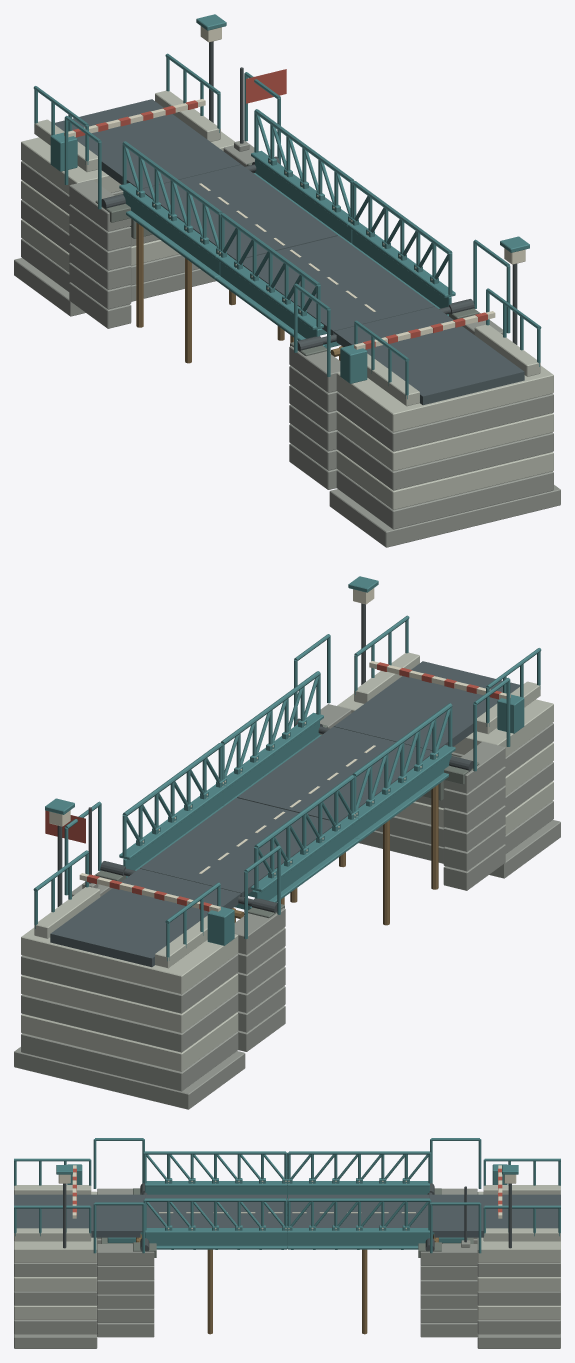
The model's file is steel-bridge.glb.
3 views of the same model, one above another, from view 1: azimuth 30°, elevation 25°; view 2: azimuth 150°, elevation 25°; view 3: azimuth 270°, elevation 25° (orthographic). The views are drawn at different scales.
Parts seen in each view (by area): view 1: BasculeLeaf.001_mesh, BasculeLeaf_mesh, FixedApproach_mesh, FixedApproach.001_mesh, AbutmentCourse.005_mesh, AbutmentCourse_mesh, AbutmentCourse.001_mesh, AbutmentCourse.002_mesh, AbutmentCourse.004_mesh, AbutmentCourse.003_mesh, Foundation_mesh, BridgeLamps_mesh (+7 smaller); view 2: BasculeLeaf_mesh, BasculeLeaf.001_mesh, FixedApproach.001_mesh, FixedApproach_mesh, AbutmentCourse.005_mesh, AbutmentCourse_mesh, AbutmentCourse.001_mesh, AbutmentCourse.002_mesh, AbutmentCourse.004_mesh, AbutmentCourse.003_mesh, Foundation_mesh, BridgeLamps_mesh (+7 smaller); view 3: BasculeLeaf_mesh, BasculeLeaf.001_mesh, FixedApproach_mesh, FixedApproach.001_mesh, AbutmentCourse.005_mesh, AbutmentCourse.002_mesh, AbutmentCourse.003_mesh, AbutmentCourse.001_mesh, AbutmentCourse_mesh, AbutmentCourse.004_mesh, Foundation_mesh, TemporaryCentering_mesh (+3 smaller).
Boxes of the visible parts, box(x1,y1,x2,y2) form: BasculeLeaf.001_mesh: box(114, 109, 354, 279); BasculeLeaf_mesh: box(215, 181, 455, 348); FixedApproach_mesh: box(294, 239, 541, 406); FixedApproach.001_mesh: box(33, 53, 280, 209); AbutmentCourse.005_mesh: box(21, 131, 553, 432); AbutmentCourse_mesh: box(21, 238, 553, 529); AbutmentCourse.001_mesh: box(21, 219, 553, 509); AbutmentCourse.002_mesh: box(21, 199, 553, 490); AbutmentCourse.004_mesh: box(21, 161, 553, 451); AbutmentCourse.003_mesh: box(21, 180, 553, 470); Foundation_mesh: box(14, 258, 560, 547); BridgeLamps_mesh: box(196, 14, 529, 344); BasculeLeaf_mesh: box(220, 671, 460, 841); BasculeLeaf.001_mesh: box(119, 743, 359, 910); FixedApproach.001_mesh: box(33, 801, 280, 968); FixedApproach_mesh: box(294, 615, 541, 771); AbutmentCourse.005_mesh: box(21, 693, 553, 994); AbutmentCourse_mesh: box(21, 800, 553, 1091); AbutmentCourse.001_mesh: box(21, 781, 553, 1071); AbutmentCourse.002_mesh: box(21, 761, 553, 1052); AbutmentCourse.004_mesh: box(21, 723, 553, 1013); AbutmentCourse.003_mesh: box(21, 742, 553, 1032); Foundation_mesh: box(14, 820, 560, 1109); BridgeLamps_mesh: box(45, 576, 378, 906); BasculeLeaf_mesh: box(101, 1151, 288, 1249); BasculeLeaf.001_mesh: box(286, 1151, 473, 1249); FixedApproach_mesh: box(14, 1138, 144, 1253); FixedApproach.001_mesh: box(430, 1138, 560, 1253); AbutmentCourse.005_mesh: box(14, 1188, 560, 1265); AbutmentCourse.002_mesh: box(14, 1239, 560, 1308); AbutmentCourse.003_mesh: box(14, 1237, 560, 1294); AbutmentCourse.001_mesh: box(14, 1305, 560, 1322); AbutmentCourse_mesh: box(14, 1319, 560, 1337); AbutmentCourse.004_mesh: box(14, 1262, 560, 1279); Foundation_mesh: box(14, 1334, 560, 1348); TemporaryCentering_mesh: box(136, 1234, 438, 1334).
Bounding box in the file's own units: 3.03 × 3.28 × 9.2.
